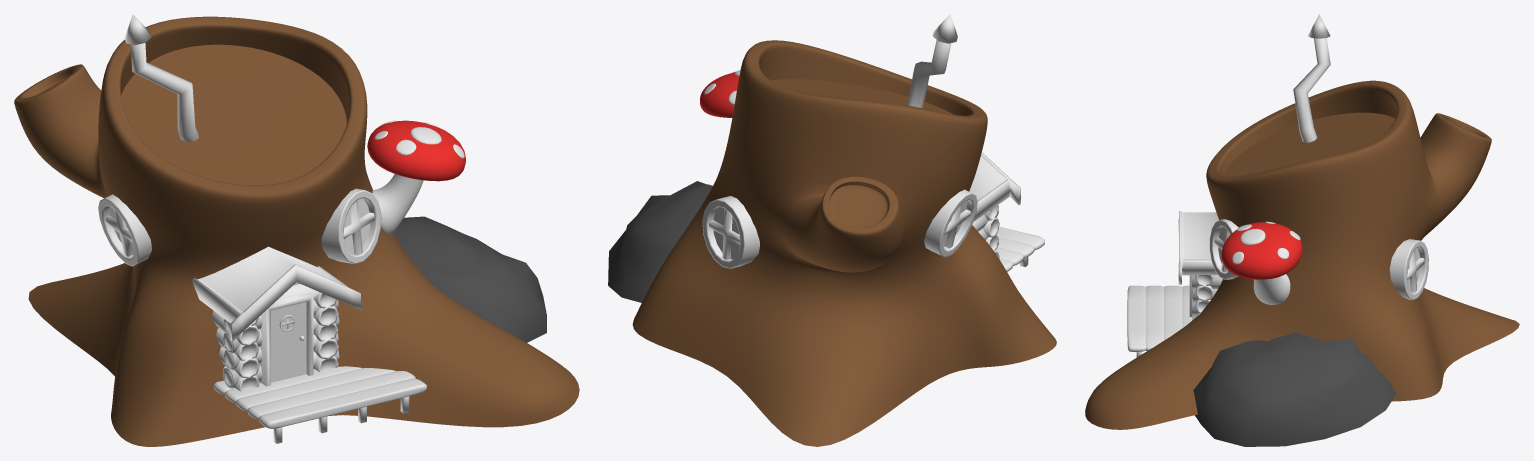
Rendered from fruityhouse1.fbx.
The picture shows the model from 3 angles, left to right: view 1: azimuth 30°, elevation 25°; view 2: azimuth 150°, elevation 25°; view 3: azimuth 270°, elevation 25°; orthographic projection. The views are drawn at different scales.
Visible parts, largest first — view 1: Tree, rings, Rock, Platform, Roof, Mushroom cap, Window.002, Cube.007, Window.001, Chimney, Cube.006, Mushroom stem; view 2: Tree, Rock, Window, Window.001, rings, Roof, Platform, Chimney, Mushroom cap, Chimneycap; view 3: Tree, Rock, rings, Platform, Mushroom cap, Roof, Window, Chimney, Window.002, Mushroom stem.
Boxes of the visible parts, <box> form: Tree: <box>14,16,579,446</box>; rings: <box>121,44,346,185</box>; Rock: <box>393,216,546,342</box>; Platform: <box>213,366,426,428</box>; Roof: <box>192,246,360,341</box>; Mushroom cap: <box>367,120,465,181</box>; Window.002: <box>321,188,381,264</box>; Cube.007: <box>271,302,306,382</box>; Window.001: <box>98,194,151,266</box>; Chimney: <box>130,43,198,142</box>; Cube.006: <box>259,292,313,386</box>; Mushroom stem: <box>372,174,423,234</box>; Tree: <box>632,40,1056,446</box>; Rock: <box>608,181,712,302</box>; Window: <box>702,196,759,268</box>; Window.001: <box>924,189,977,257</box>; rings: <box>771,79,953,114</box>; Roof: <box>969,152,1020,221</box>; Platform: <box>995,226,1044,271</box>; Chimney: <box>907,40,951,108</box>; Mushroom cap: <box>700,72,739,117</box>; Chimneycap: <box>932,14,957,43</box>; Tree: <box>1085,80,1519,429</box>; Rock: <box>1193,332,1395,446</box>; rings: <box>1224,112,1395,176</box>; Platform: <box>1127,285,1192,351</box>; Mushroom cap: <box>1221,222,1302,279</box>; Roof: <box>1178,211,1218,284</box>; Window: <box>1389,239,1428,300</box>; Chimney: <box>1293,38,1330,142</box>; Window.002: <box>1209,219,1238,279</box>; Mushroom stem: <box>1253,274,1290,304</box>.
Size of the model in its own units: 1314 by 1107 by 1440.
